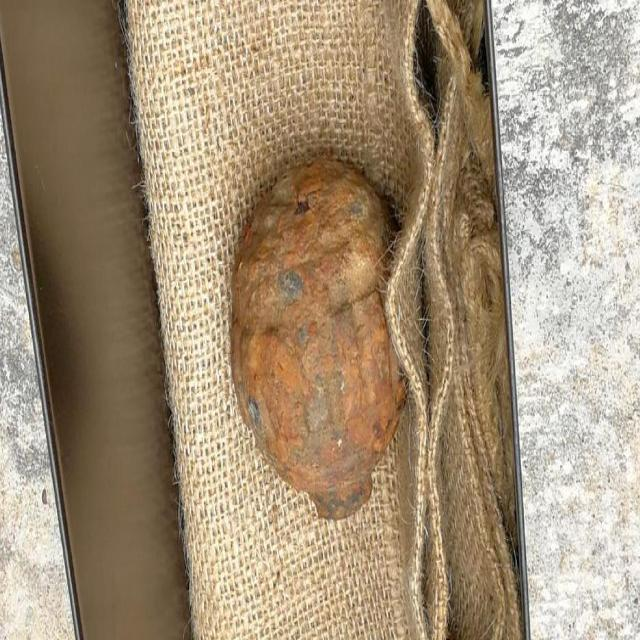grenade: (231, 155, 413, 526)
